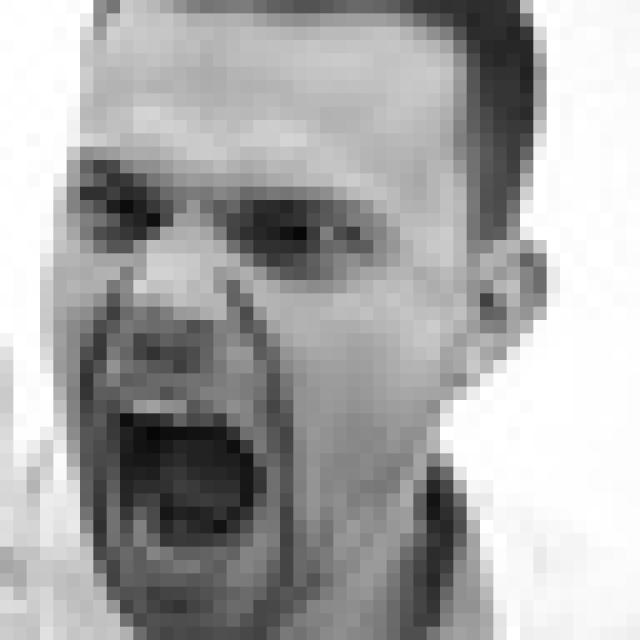angry: (62, 150, 386, 605)
